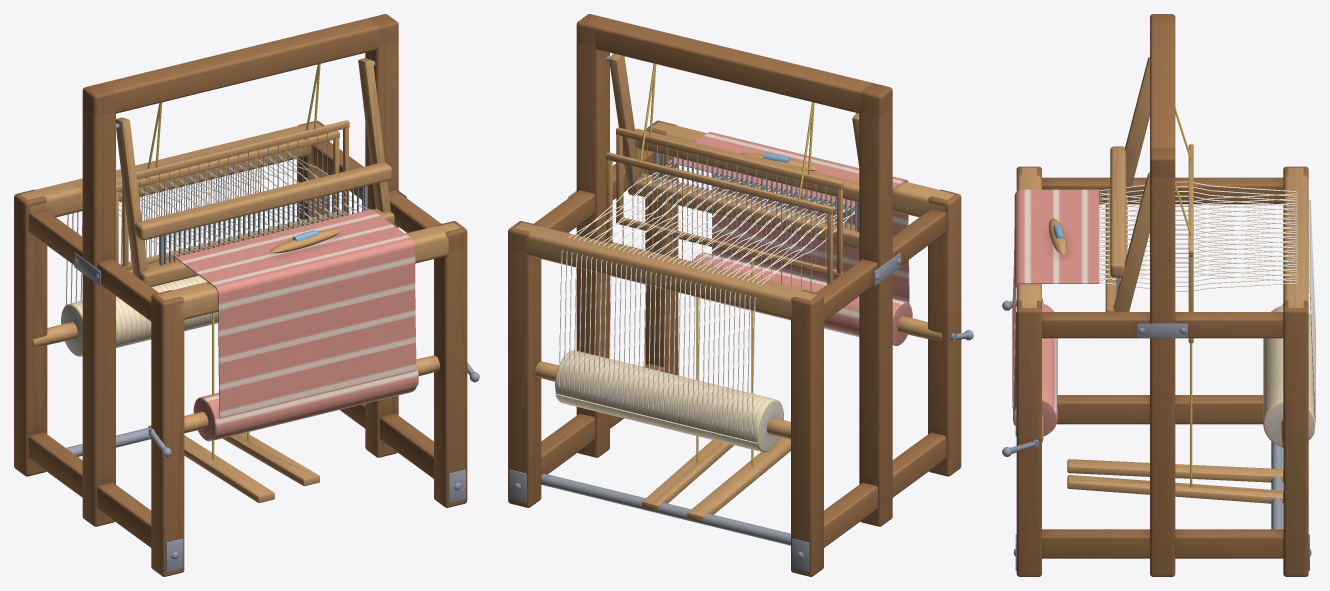
Rendered from loom.glb.
3 renders of one model, left to right at view 1: azimuth 30°, elevation 25°; view 2: azimuth 150°, elevation 25°; view 3: azimuth 270°, elevation 25°, orthographic. The views are drawn at different scales.
Visible parts, largest first — view 1: loom_body, loom_beater; view 2: loom_body, loom_beater; view 3: loom_body, loom_beater.
Part boxes in pixels (left/top/right/bottom): loom_body: left=14, top=14, right=479, bottom=576; loom_beater: left=116, top=58, right=394, bottom=286; loom_body: left=508, top=14, right=973, bottom=576; loom_beater: left=606, top=53, right=859, bottom=249; loom_body: left=1002, top=14, right=1315, bottom=576; loom_beater: left=1105, top=57, right=1149, bottom=311.
Bounding box in the file's own units: 1.12 × 1.46 × 0.9888.
Materials: 2 (2 with a texture image).
